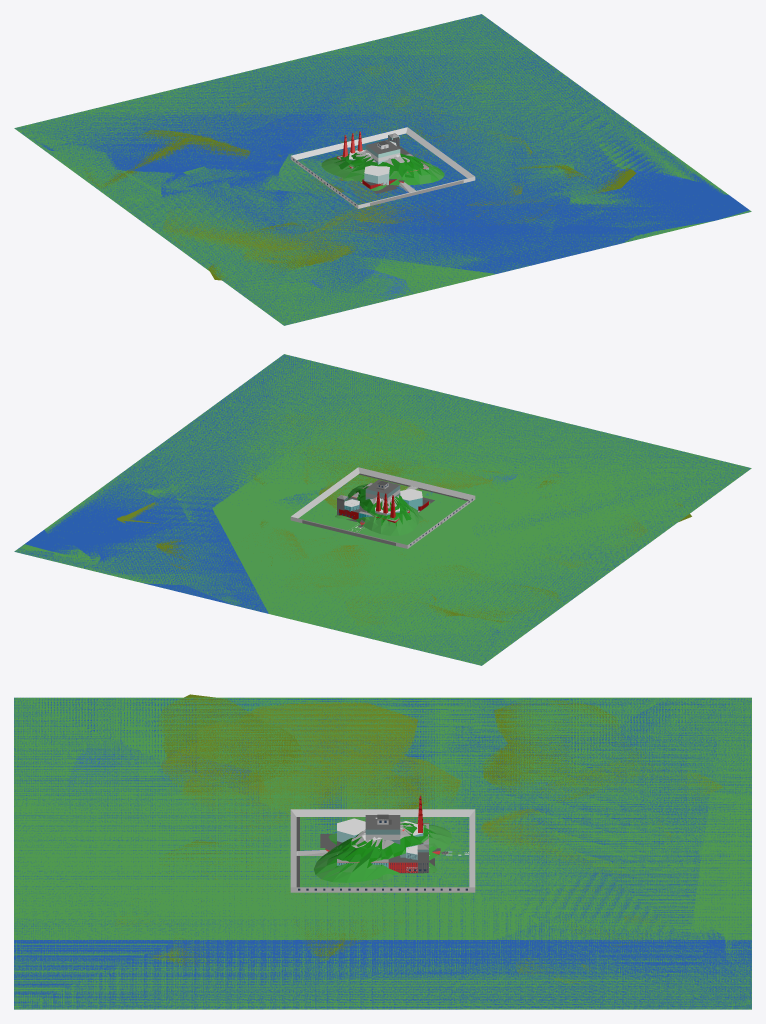
Rendered from desert_storm.glb.
3 renders of one model, top to bottom at view 1: azimuth 30°, elevation 25°; view 2: azimuth 150°, elevation 25°; view 3: azimuth 270°, elevation 25°, orthographic. The views are drawn at different scales.
Parts seen in each view (by area): view 1: desert_storm_109_lod0, desert_storm_000_lod0, desert_storm_134_lod0, desert_storm_132_lod0, desert_storm_136_lod0, desert_storm_141_lod0, desert_storm_133_lod0, desert_storm_130_lod0, desert_storm_107_lod0_forest, desert_storm_106_lod0_forest, desert_storm_138_lod0, desert_storm_131_lod0 (+11 smaller); view 2: desert_storm_000_lod0, desert_storm_130_lod0, desert_storm_129_lod0, desert_storm_109_lod0, desert_storm_133_lod0, desert_storm_128_lod0, desert_storm_131_lod0, desert_storm_106_lod0_forest, desert_storm_144_lod0, desert_storm_134_lod0, desert_storm_107_lod0_forest, desert_storm_043_lod0 (+10 smaller); view 3: desert_storm_128_lod0, desert_storm_000_lod0, desert_storm_130_lod0, desert_storm_109_lod0, desert_storm_131_lod0, desert_storm_134_lod0, desert_storm_107_lod0_forest, desert_storm_106_lod0_forest, desert_storm_129_lod0, desert_storm_132_lod0, desert_storm_133_lod0, desert_storm_139_lod0 (+15 smaller).
Boxes of the visible parts, left/top/right/bottom form: desert_storm_109_lod0: left=15, top=14, right=748, bottom=325; desert_storm_000_lod0: left=16, top=14, right=750, bottom=325; desert_storm_134_lod0: left=49, top=21, right=667, bottom=323; desert_storm_132_lod0: left=17, top=16, right=751, bottom=324; desert_storm_136_lod0: left=17, top=15, right=676, bottom=317; desert_storm_141_lod0: left=27, top=21, right=701, bottom=318; desert_storm_133_lod0: left=19, top=17, right=663, bottom=316; desert_storm_130_lod0: left=20, top=15, right=655, bottom=323; desert_storm_107_lod0_forest: left=163, top=106, right=636, bottom=253; desert_storm_106_lod0_forest: left=84, top=66, right=522, bottom=280; desert_storm_138_lod0: left=26, top=19, right=695, bottom=324; desert_storm_131_lod0: left=18, top=15, right=686, bottom=323; desert_storm_000_lod0: left=14, top=354, right=750, bottom=665; desert_storm_130_lod0: left=20, top=357, right=750, bottom=664; desert_storm_129_lod0: left=19, top=354, right=749, bottom=664; desert_storm_109_lod0: left=15, top=354, right=749, bottom=665; desert_storm_133_lod0: left=17, top=360, right=744, bottom=664; desert_storm_128_lod0: left=16, top=356, right=749, bottom=664; desert_storm_131_lod0: left=19, top=354, right=748, bottom=661; desert_storm_106_lod0_forest: left=156, top=453, right=691, bottom=622; desert_storm_144_lod0: left=119, top=356, right=742, bottom=663; desert_storm_134_lod0: left=90, top=357, right=747, bottom=622; desert_storm_107_lod0_forest: left=245, top=414, right=647, bottom=625; desert_storm_043_lod0: left=290, top=467, right=475, bottom=548; desert_storm_128_lod0: left=14, top=697, right=751, bottom=1009; desert_storm_000_lod0: left=14, top=697, right=751, bottom=1009; desert_storm_130_lod0: left=14, top=697, right=751, bottom=1009; desert_storm_109_lod0: left=14, top=697, right=751, bottom=1009; desert_storm_131_lod0: left=14, top=697, right=751, bottom=1009; desert_storm_134_lod0: left=14, top=698, right=751, bottom=1009; desert_storm_107_lod0_forest: left=150, top=701, right=723, bottom=968; desert_storm_106_lod0_forest: left=158, top=694, right=670, bottom=946; desert_storm_129_lod0: left=14, top=697, right=751, bottom=1009; desert_storm_132_lod0: left=14, top=697, right=751, bottom=1009; desert_storm_133_lod0: left=14, top=698, right=751, bottom=1009; desert_storm_139_lod0: left=14, top=698, right=751, bottom=1009.
Size of what is drawn, in the model's own units: 4139 by 257 by 4096.
